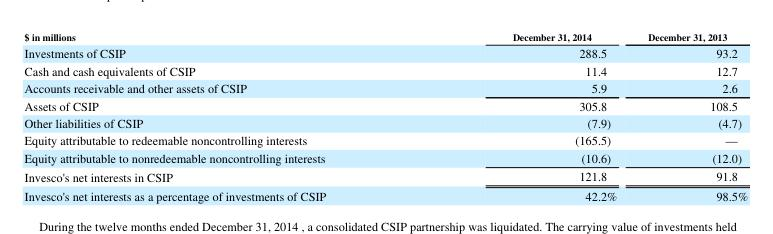table: (23, 29, 747, 203)
table column: (23, 29, 418, 203), (418, 29, 631, 203), (631, 29, 747, 203)
table column header: (23, 29, 747, 43)
table row: (23, 166, 747, 185), (23, 43, 747, 61), (23, 78, 747, 96), (23, 113, 747, 131), (23, 148, 747, 166), (23, 185, 747, 203), (23, 61, 747, 78), (23, 96, 747, 113), (23, 131, 747, 148), (23, 29, 747, 43)
